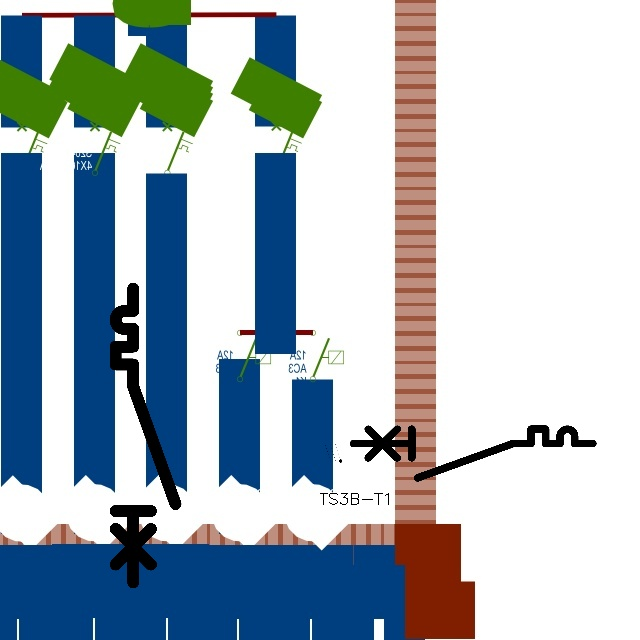interruptor_termomagnetico: (108, 281, 183, 589), (347, 423, 598, 484)
